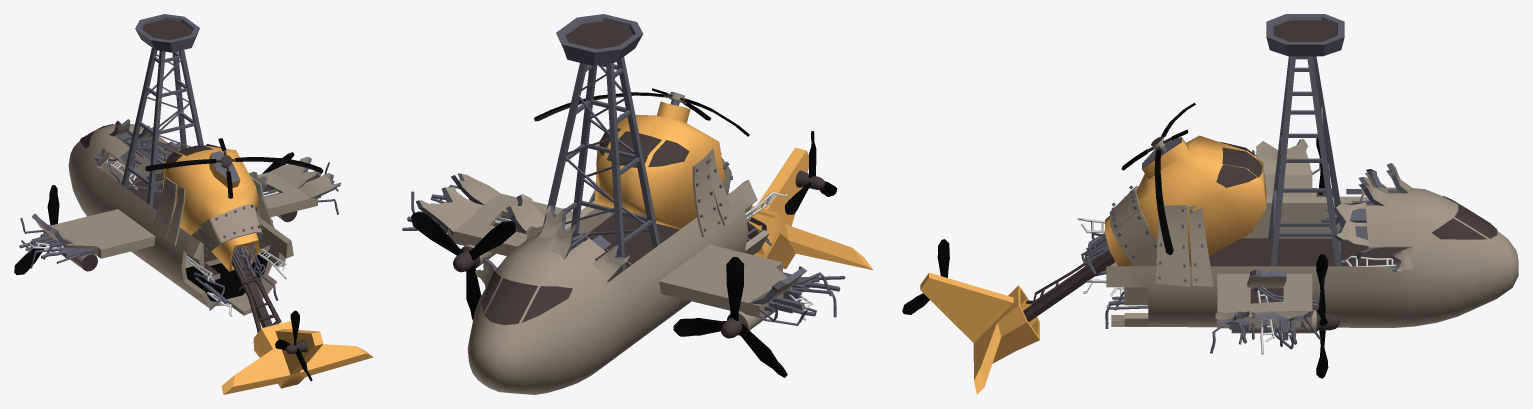
File: SM_BoatBase_V3.fbx
3 renders of one model, left to right at view 1: azimuth 30°, elevation 25°; view 2: azimuth 150°, elevation 25°; view 3: azimuth 270°, elevation 25°, orthographic. The views are drawn at different scales.
Visible parts, largest first — view 1: SM_BoatBase_V3, SM_BoatRudder_V3; view 2: SM_BoatBase_V3, SM_BoatRudder_V3; view 3: SM_BoatBase_V3, SM_BoatRudder_V3.
Part boxes in pixels (<box>): SM_BoatBase_V3: <box>14,14,341,316</box>; SM_BoatRudder_V3: <box>221,248,373,394</box>; SM_BoatBase_V3: <box>402,14,845,394</box>; SM_BoatRudder_V3: <box>746,131,873,270</box>; SM_BoatBase_V3: <box>1077,14,1518,378</box>; SM_BoatRudder_V3: <box>902,239,1115,394</box>.
Bounding box in the file's own units: 455 × 372 × 622.
